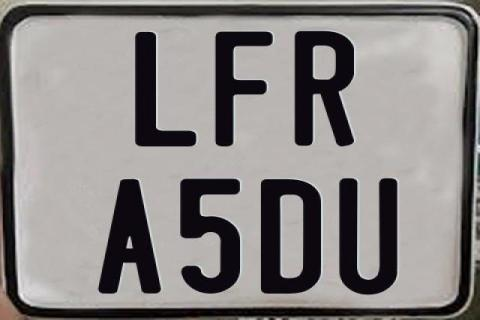0: (180, 178, 244, 296)
A: (99, 180, 168, 298)
D: (261, 177, 327, 297)
F: (215, 31, 276, 149)
L: (133, 32, 198, 146)
R: (294, 29, 359, 149)
U: (339, 178, 403, 298)
